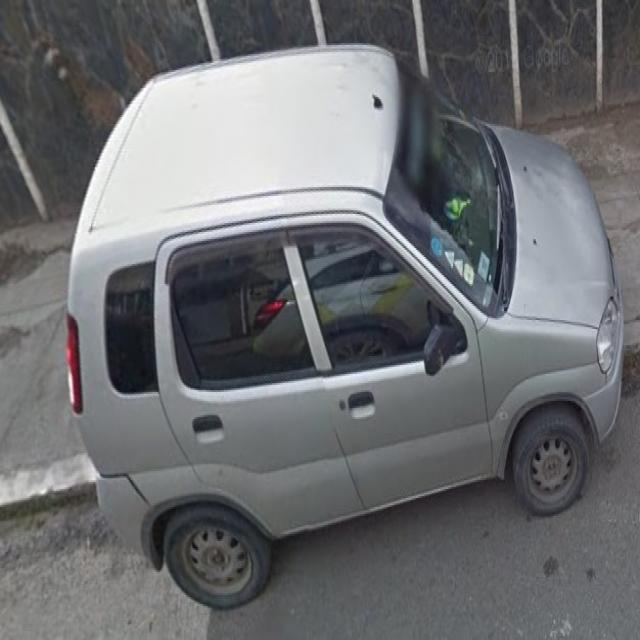car: (64, 45, 629, 606)
